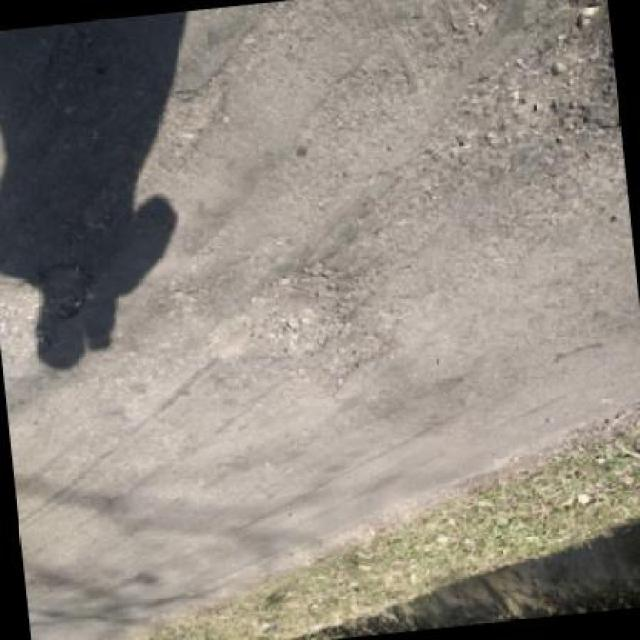pothole: (199, 258, 361, 372), (502, 12, 620, 131), (289, 333, 402, 407)
